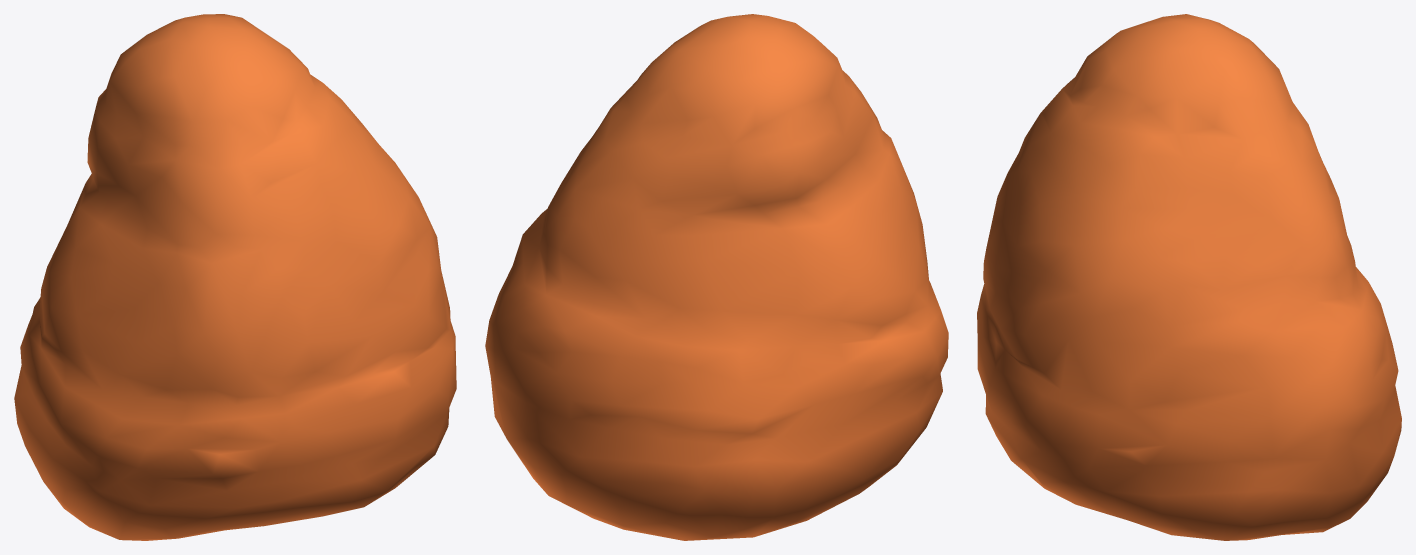
Rendered from Rock6.fbx.
3 views of the same model, side by side, from view 1: azimuth 30°, elevation 25°; view 2: azimuth 150°, elevation 25°; view 3: azimuth 270°, elevation 25° (orthographic). The views are drawn at different scales.
Visible parts, largest first — view 1: pasted__Plane.066; view 2: pasted__Plane.066; view 3: pasted__Plane.066.
Part boxes in pixels (left/top/right/bottom): pasted__Plane.066: left=14, top=14, right=456, bottom=540; pasted__Plane.066: left=485, top=14, right=948, bottom=540; pasted__Plane.066: left=977, top=14, right=1401, bottom=540.
Bounding box in the file's own units: 154 × 183 × 152.
